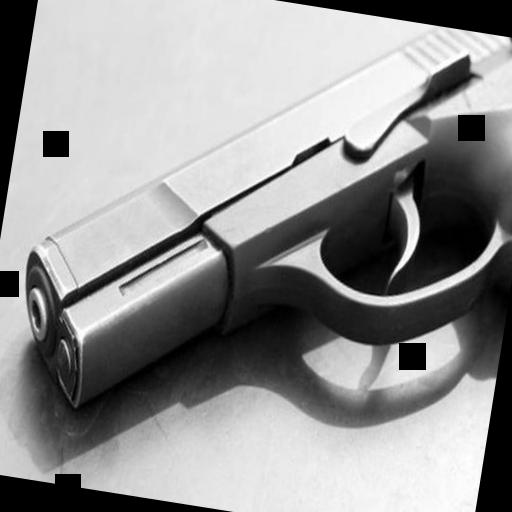Handgun: (2, 0, 512, 470)
